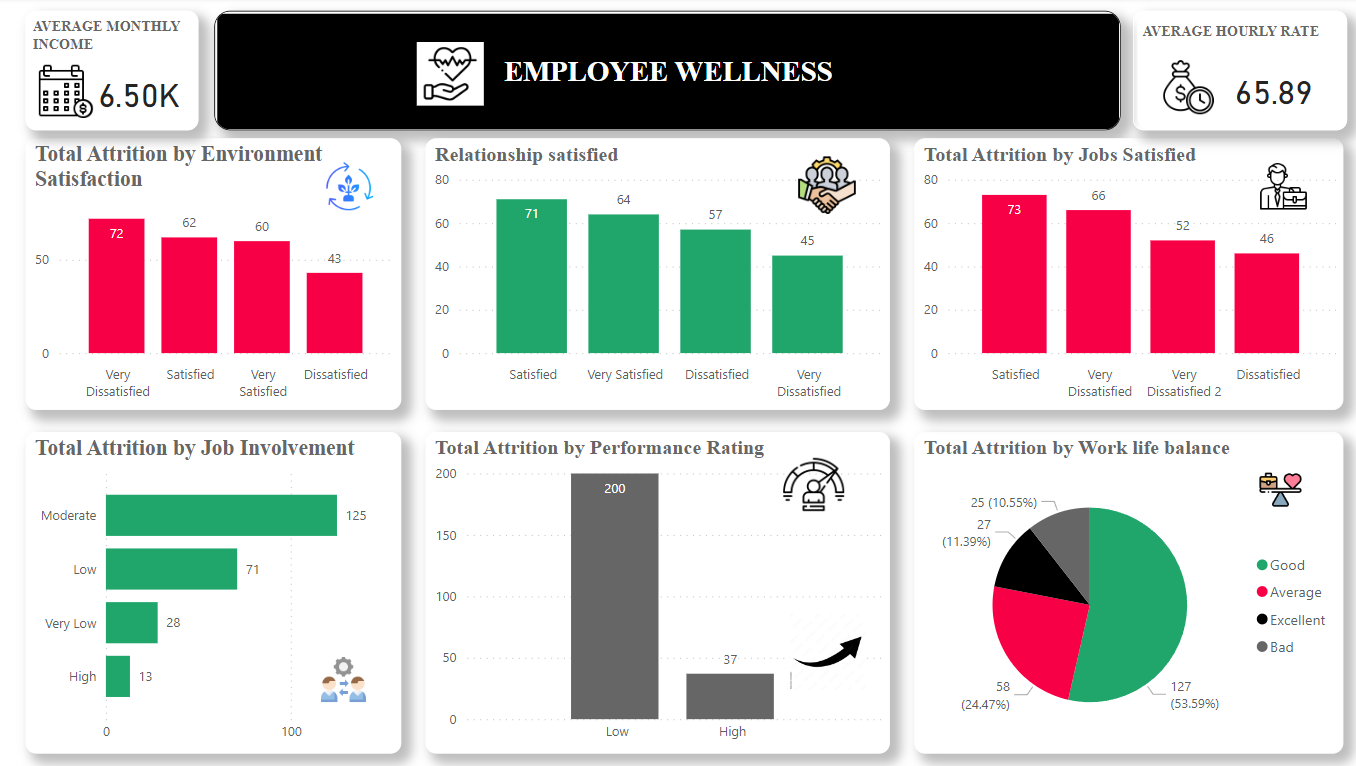

The page's visual inventory and layout, read from the dashboard file:
{"tool":"powerbi","page":{"name":"Page 5","canvas":[1280,720],"ordinal":4},"visuals":[{"type":"shape","title":"DAS","box":[205.7,12.9,842.9,111.4],"z":0},{"type":"columnChart","title":"Total Attrition by Environment Satisfaction","fields":{"Y":["Sum(HR-Employee-Attrition.Attrition Count)"],"Category":["HR-Employee-Attrition.EnvironmentSatisfaction (groups)"]},"box":[30.4,131.6,349.9,253.1],"z":1000},{"type":"barChart","title":"Total Attrition by Job Involvement","fields":{"Category":["HR-Employee-Attrition.JobInvolvement (groups)"],"Y":["Sum(HR-Employee-Attrition.Attrition Count)"]},"box":[30.4,404.9,349.9,299.3],"z":2000},{"type":"columnChart","title":"Relationship satisfied","fields":{"Category":["HR-Employee-Attrition.RelationshipSatisfaction (groups)"],"Y":["Sum(HR-Employee-Attrition.Attrition Count)"]},"box":[402,131.6,432.4,253.1],"z":3000},{"type":"columnChart","title":"Total Attrition by Performance Rating","fields":{"Category":["HR-Employee-Attrition.PerformanceRating (groups)"],"Y":["Sum(HR-Employee-Attrition.Attrition Count)"]},"box":[402,404.9,432.4,299.3],"z":4000},{"type":"pieChart","title":"Total Attrition by Work life balance","fields":{"Category":["HR-Employee-Attrition.WorkLifeBalance"],"Y":["Sum(HR-Employee-Attrition.Attrition Count)"]},"box":[857.5,404.9,399.1,299.3],"z":5000},{"type":"columnChart","title":"Total Attrition by Jobs Satisfied","fields":{"Category":["HR-Employee-Attrition.JobSatisfaction (groups)"],"Y":["Sum(HR-Employee-Attrition.Attrition Count)"]},"box":[857.5,131.6,399.1,253.1],"z":6000},{"type":"shape","title":"Shape1","box":[30.4,13,160.5,111.3],"z":7000},{"type":"shape","title":"Shape1","box":[1059.9,13,199.6,111.3],"z":8000},{"type":"card","fields":{"Values":["Avg(HR-Employee-Attrition.MonthlyIncome)"]},"box":[89.7,66.5,92.5,47.7],"z":9000},{"type":"card","fields":{"Values":["Avg(HR-Employee-Attrition.HourlyRate)"]},"box":[1140.9,60.7,101.2,53.5],"z":10000},{"type":"image","box":[394.8,41.9,62.2,59.3],"z":11000},{"type":"image","box":[37.6,56.4,60.7,63.6],"z":12000},{"type":"image","box":[305.1,148.9,54.9,54.9],"z":13000},{"type":"image","box":[744.7,141.7,63.6,66.5],"z":14000},{"type":"image","box":[1172.7,148.9,54.9,54.9],"z":15000},{"type":"image","box":[1081.6,52.1,62.2,63.6],"z":16000},{"type":"image","box":[299.3,607.3,54.9,56.4],"z":17000},{"type":"image","box":[730.2,568.3,92.5,81],"z":18000},{"type":"image","box":[730.2,416.5,66.5,75.2],"z":19000},{"type":"image","box":[1172.7,429.5,49.2,57.8],"z":20000}]}

Visuals, with their boxes in screenshot pixels (x1, y1, x2, y2), scaled from the page's 1280x720 canvas onto the 1356x766 screenshot:
"DAS" shape: bbox=(218, 14, 1111, 132)
"Total Attrition by Environment Satisfaction" columnChart: bbox=(32, 140, 403, 409)
"Total Attrition by Job Involvement" barChart: bbox=(32, 431, 403, 749)
"Relationship satisfied" columnChart: bbox=(426, 140, 884, 409)
"Total Attrition by Performance Rating" columnChart: bbox=(426, 431, 884, 749)
"Total Attrition by Work life balance" pieChart: bbox=(908, 431, 1331, 749)
"Total Attrition by Jobs Satisfied" columnChart: bbox=(908, 140, 1331, 409)
"Shape1" shape: bbox=(32, 14, 202, 132)
"Shape1" shape: bbox=(1123, 14, 1334, 132)
card - Avg(HR-Employee-Attrition.MonthlyIncome): bbox=(95, 71, 193, 121)
card - Avg(HR-Employee-Attrition.HourlyRate): bbox=(1209, 65, 1316, 121)
image: bbox=(418, 45, 484, 108)
image: bbox=(40, 60, 104, 128)
image: bbox=(323, 158, 381, 217)
image: bbox=(789, 151, 856, 222)
image: bbox=(1242, 158, 1300, 217)
image: bbox=(1146, 55, 1212, 123)
image: bbox=(317, 646, 375, 706)
image: bbox=(774, 605, 872, 691)
image: bbox=(774, 443, 844, 523)
image: bbox=(1242, 457, 1294, 518)
